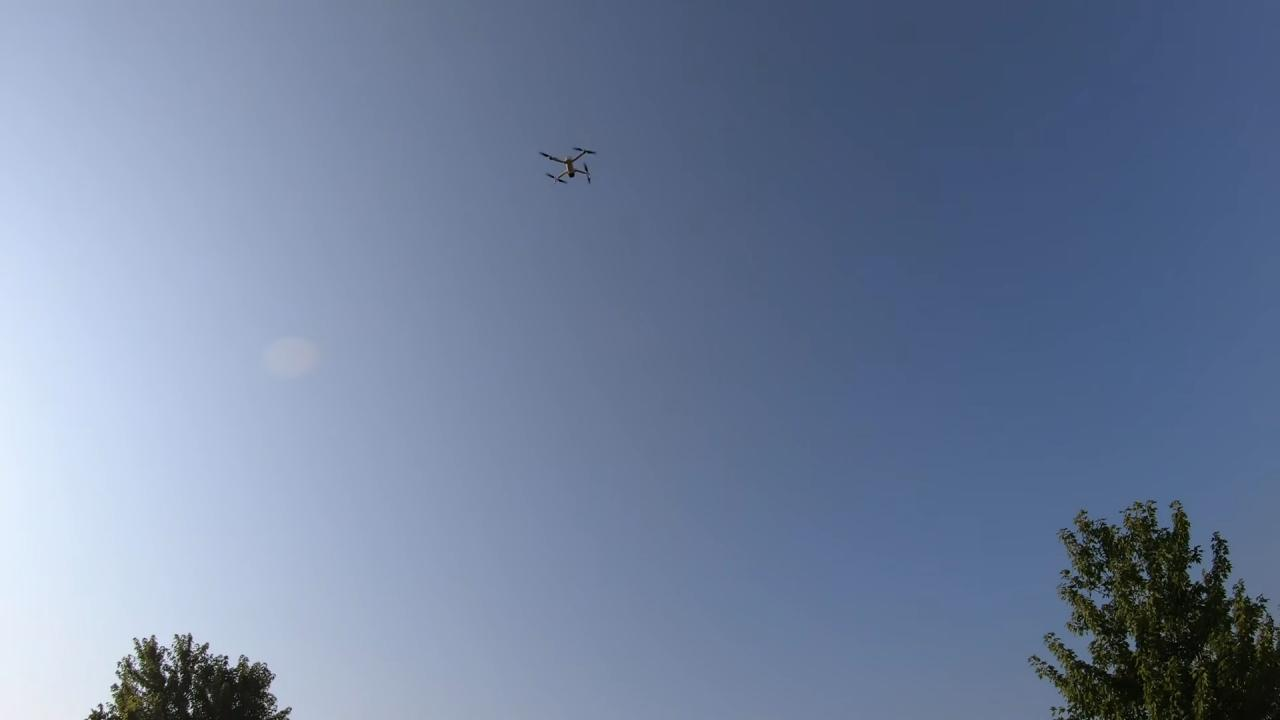Drone: (530, 139, 606, 197)
